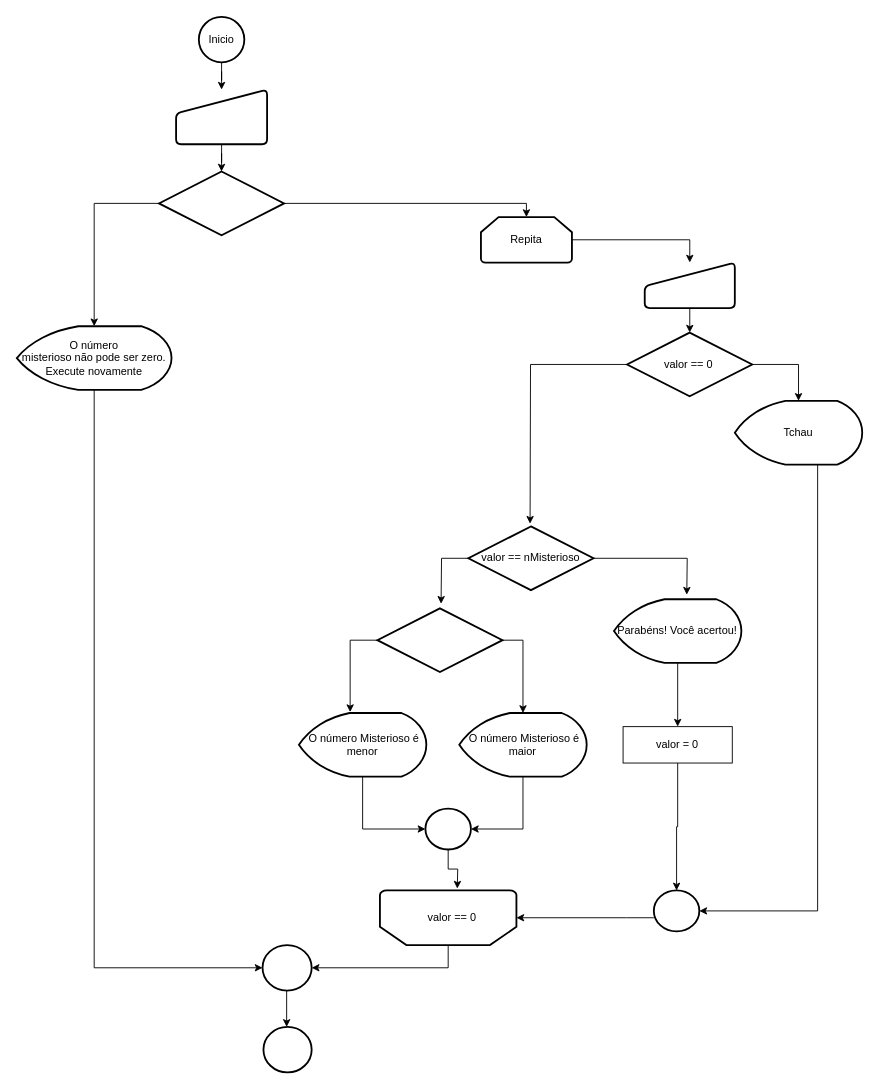
Some shapes in this 878 by 1088 pixel diagram are drawn without their labels. The shapes that lost their labels are listed below. From the top down, each one's centre as x and y in pixels, then its label:
pixel 221 116: nMisterioso
pixel 221 203: nMisterioso != 0
pixel 689 284: valor
pixel 439 639: nMisterioso > valor
pixel 287 1049: Fim
